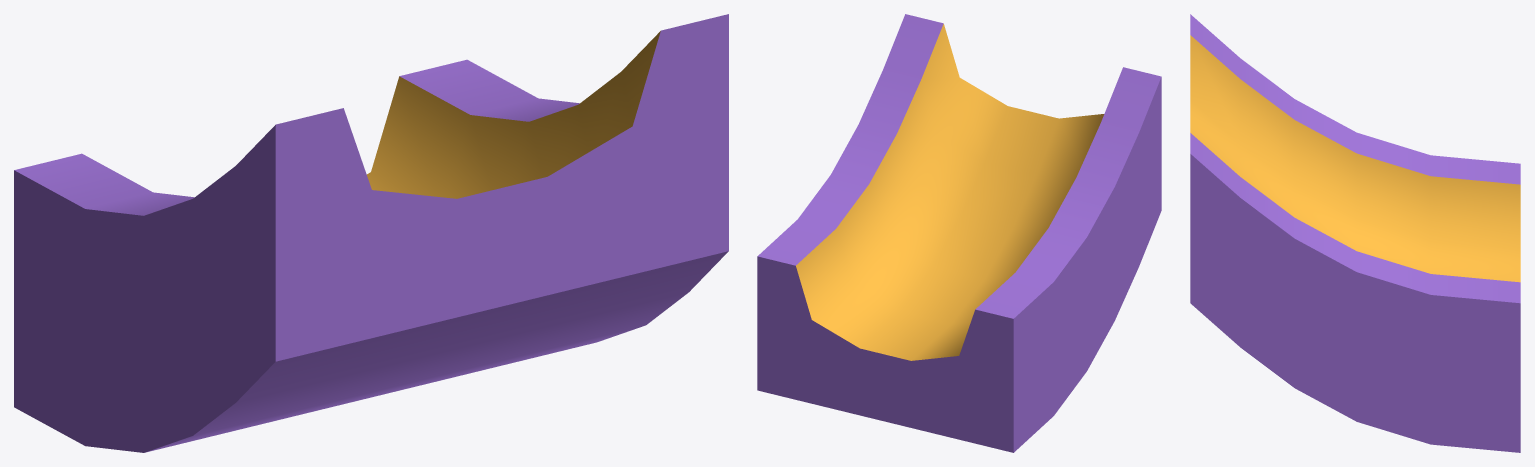
The model's file is ramp-start-c.glb.
3 renders of one model, left to right at view 1: azimuth 30°, elevation 25°; view 2: azimuth 150°, elevation 25°; view 3: azimuth 270°, elevation 25°, orthographic. The views are drawn at different scales.
Parts seen in each view (by area): view 1: ramp-start-c; view 2: ramp-start-c; view 3: ramp-start-c.
Part boxes in pixels (box(x1,y1,x2,y2)): ramp-start-c: box(14, 14, 728, 452); ramp-start-c: box(757, 14, 1161, 452); ramp-start-c: box(1190, 14, 1520, 452).
Bounding box in the file's own units: 1 × 1 × 1.
Materials: 1 (1 with a texture image).
